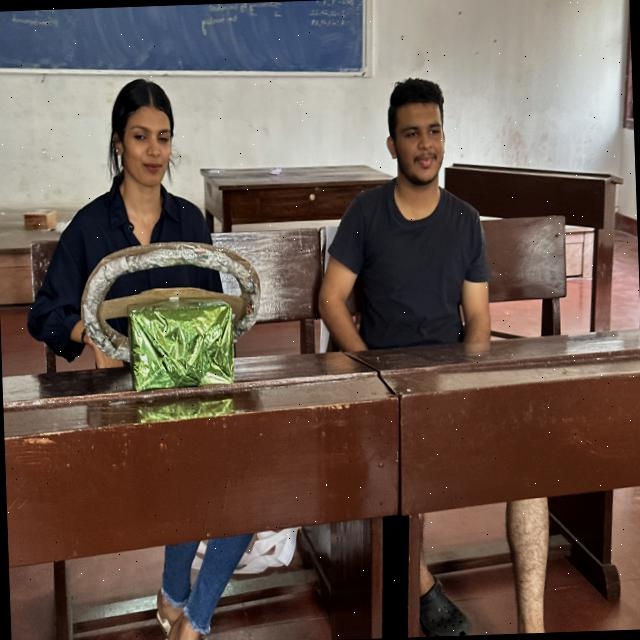no-seatbelt: (22, 190, 225, 382), (314, 187, 498, 371)
